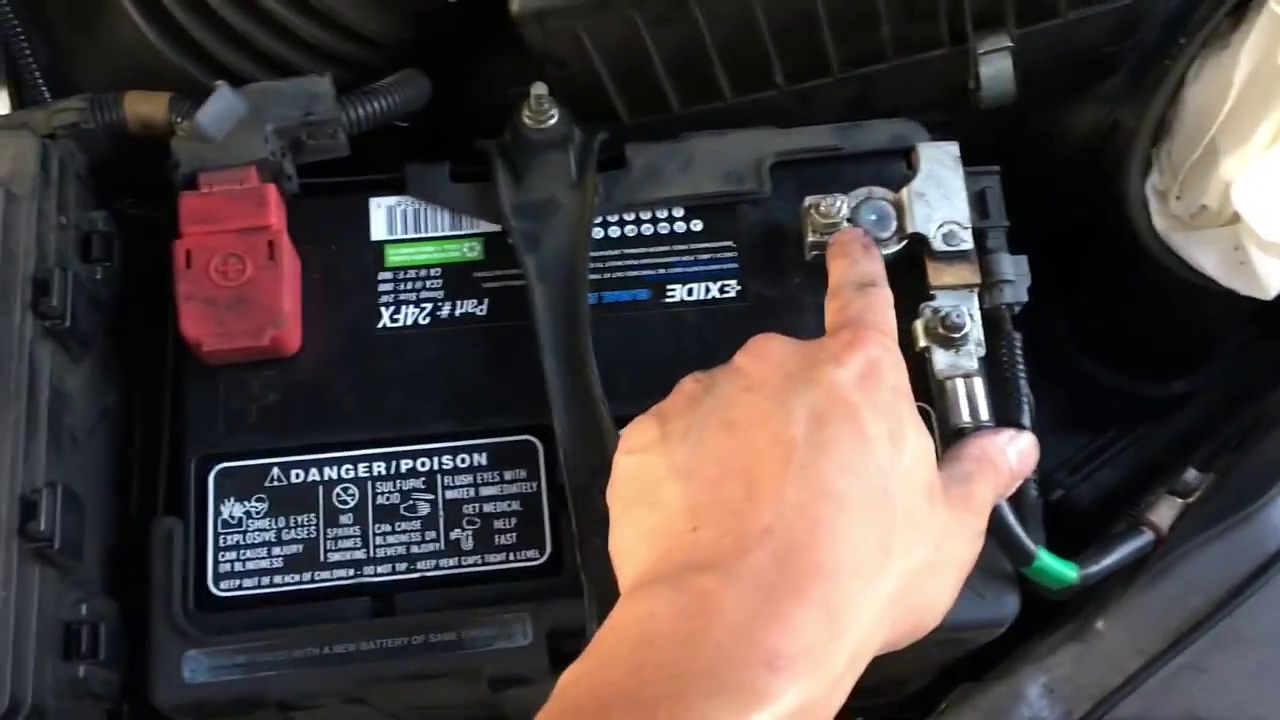battery: (151, 132, 1026, 626)
neg_connected: (783, 140, 993, 286)
neg_touched: (795, 190, 1048, 528)
pos_connected: (158, 115, 326, 373)
